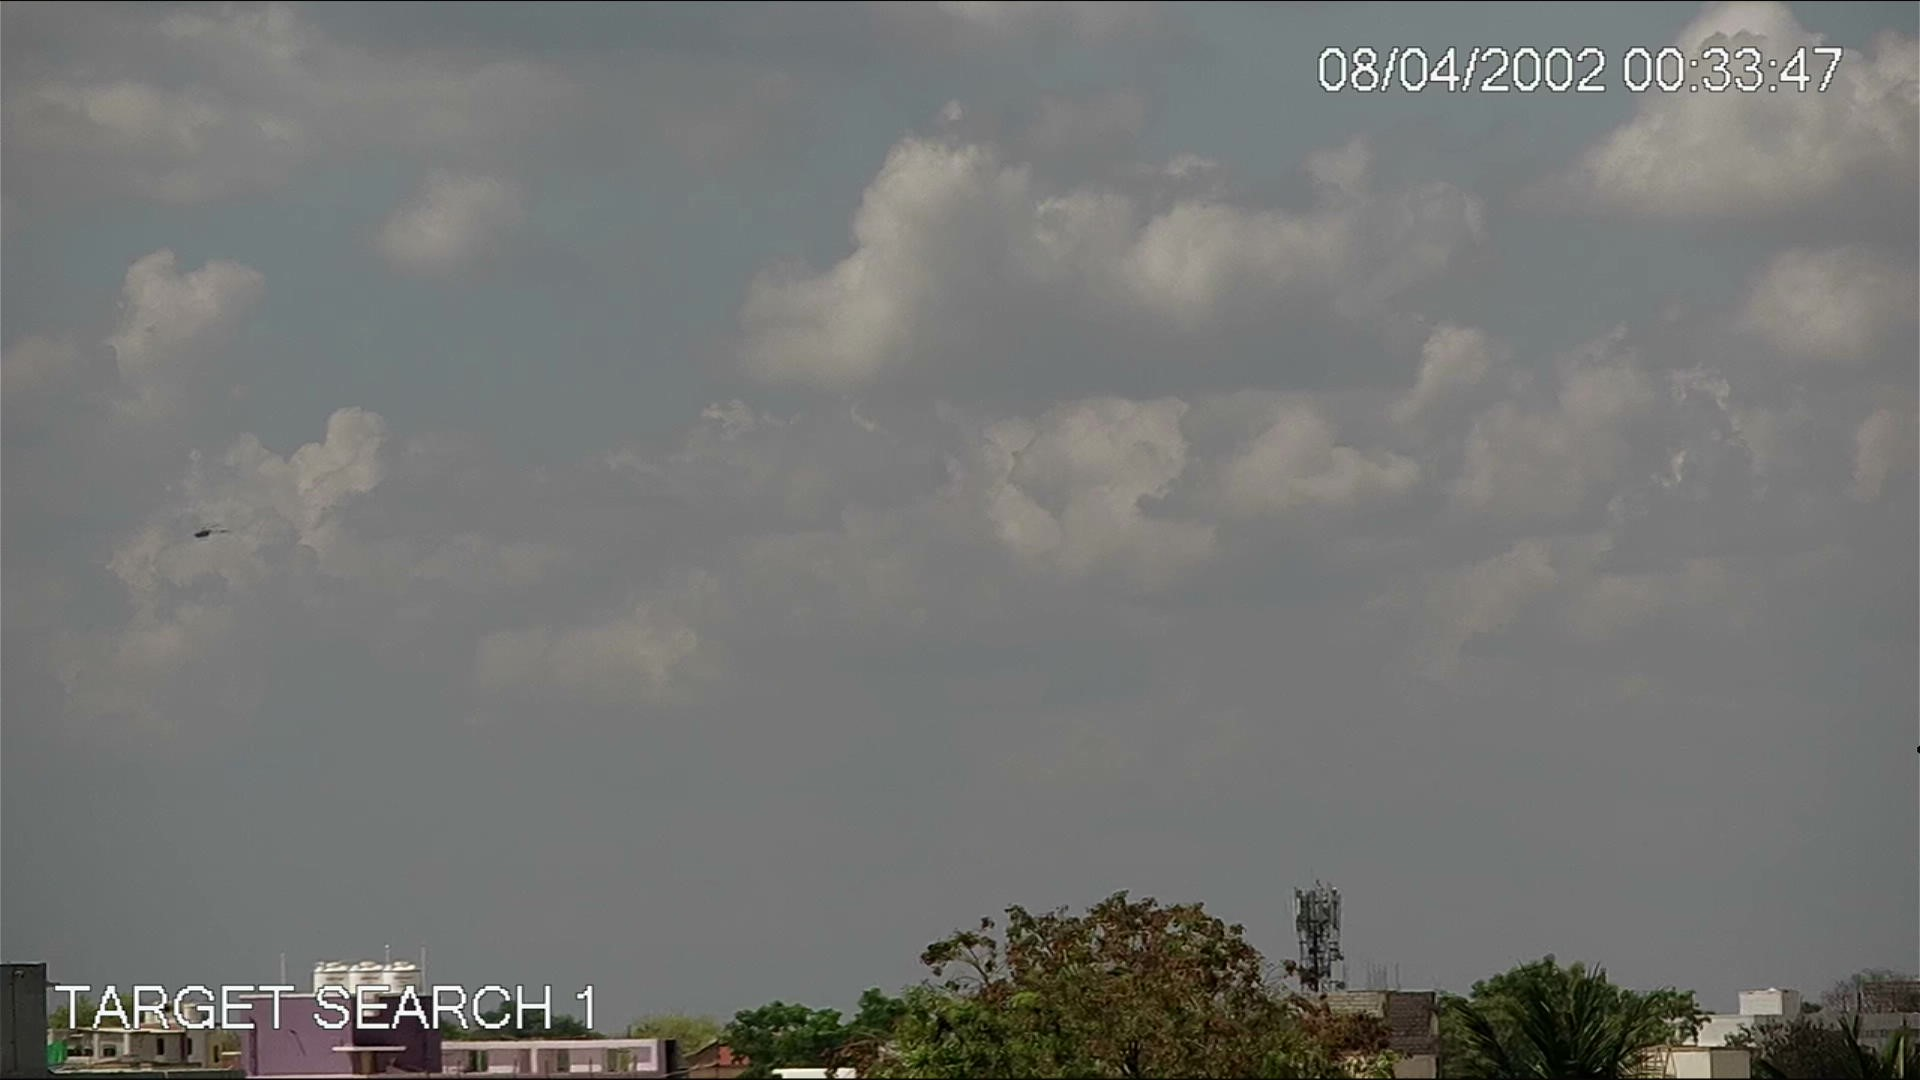SU_30: (189, 525, 233, 542)
